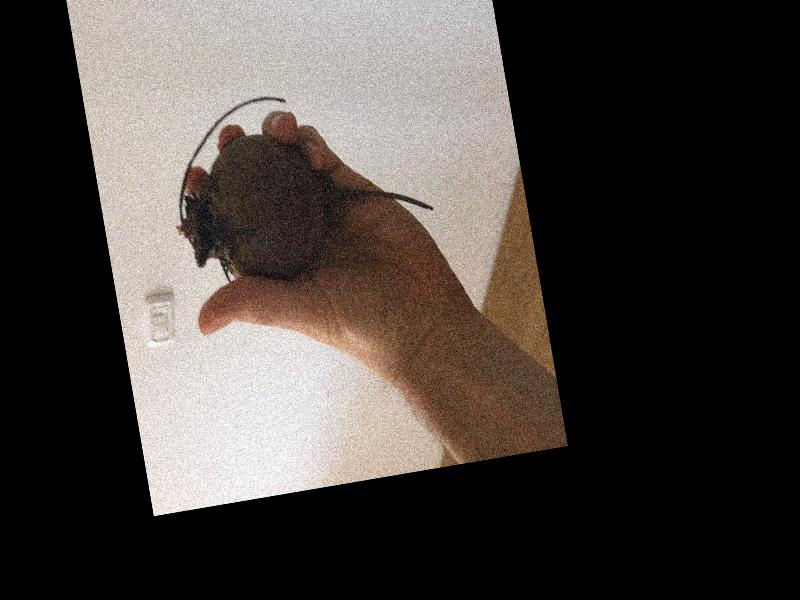Beet: (158, 70, 439, 291)
